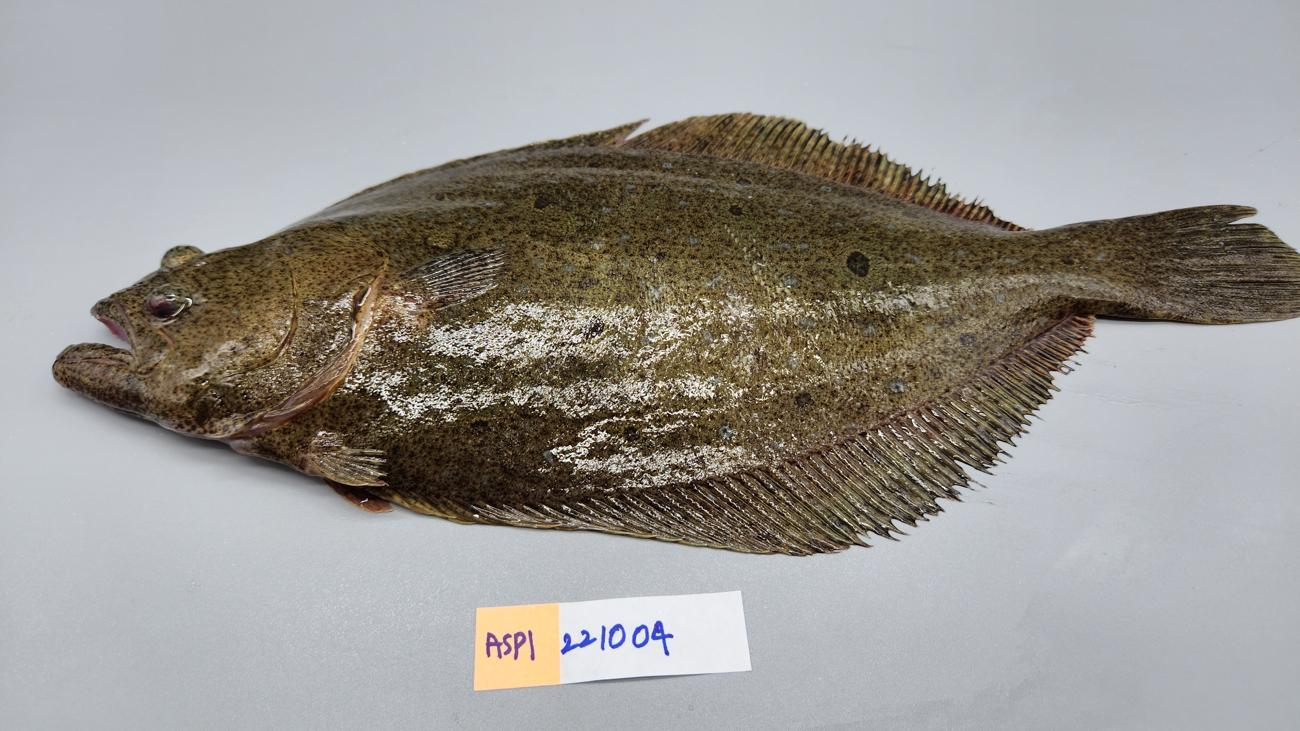SPFCH: (1140, 205, 1289, 321)
SPOUY: (43, 98, 1300, 568)
